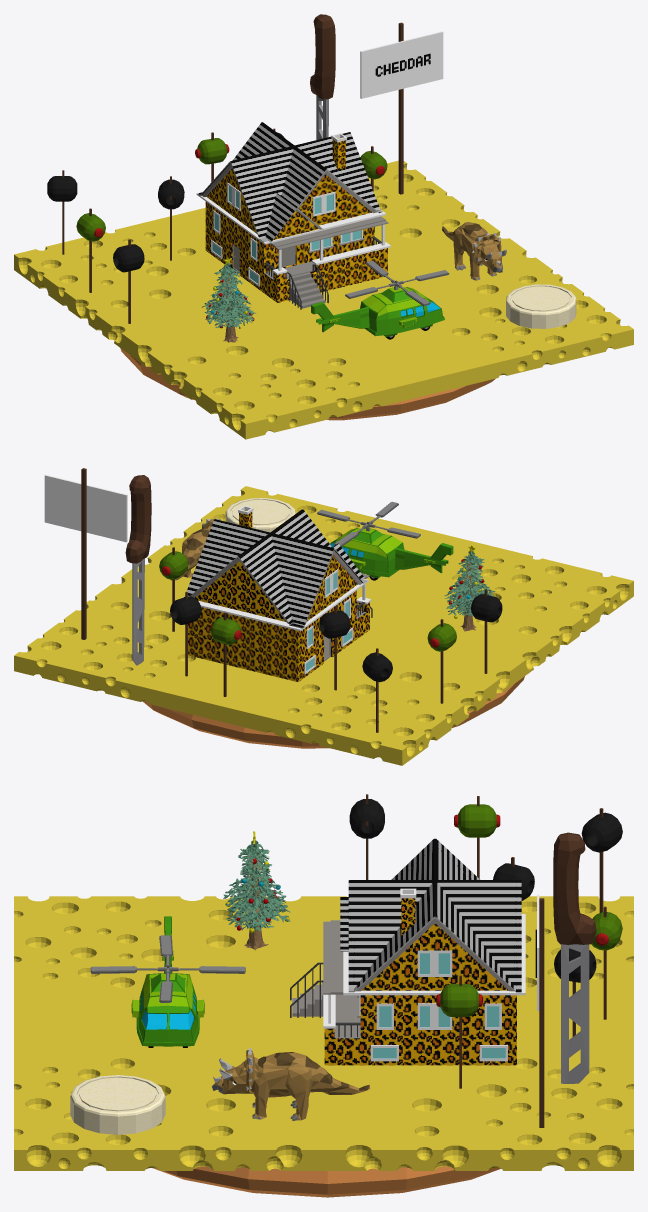
3 renders of one model, top to bottom at view 1: azimuth 30°, elevation 25°; view 2: azimuth 150°, elevation 25°; view 3: azimuth 270°, elevation 25°, orthographic. The views are drawn at different scales.
Visible parts, largest first — view 1: Cube.022, Cube.637, Cube.023, VEHICLES_HELICOPTER, Cylinder.016, Cube.024, ANIMAL_Triceratops, OBJRANDOM_CHRISTMAS_TREE, UNDERGROUND_PIZZA, Sphere.017, Sphere.016, Sphere.018 (+3 smaller); view 2: Cube.022, Cube.637, Cube.023, VEHICLES_HELICOPTER, Cube.024, UNDERGROUND_PIZZA, OBJRANDOM_CHRISTMAS_TREE, Cylinder.016, Sphere.017, Sphere.022, Sphere.020, Sphere.021 (+4 smaller); view 3: Cube.022, Cube.637, Cube.024, UNDERGROUND_PIZZA, VEHICLES_HELICOPTER, ANIMAL_Triceratops, Cylinder.016, OBJRANDOM_CHRISTMAS_TREE, Cube.023, Sphere.016, Sphere.019, Sphere.018 (+4 smaller).
Boxes of the visible parts, x1=… form: Cube.022: x1=14, y1=160, x2=633, y2=439; Cube.637: x1=196, y1=122, x2=390, y2=309; Cube.023: x1=360, y1=22, x2=443, y2=194; VEHICLES_HELICOPTER: x1=311, y1=260, x2=449, y2=339; Cylinder.016: x1=506, y1=284, x2=576, y2=328; Cube.024: x1=310, y1=14, x2=335, y2=139; ANIMAL_Triceratops: x1=442, y1=222, x2=506, y2=280; OBJRANDOM_CHRISTMAS_TREE: x1=202, y1=257, x2=256, y2=342; UNDERGROUND_PIZZA: x1=120, y1=348, x2=495, y2=420; Sphere.017: x1=113, y1=239, x2=144, y2=323; Sphere.016: x1=47, y1=170, x2=77, y2=254; Sphere.018: x1=76, y1=208, x2=105, y2=292; Cube.022: x1=14, y1=486, x2=633, y2=765; Cube.637: x1=183, y1=505, x2=372, y2=681; Cube.023: x1=44, y1=468, x2=127, y2=639; VEHICLES_HELICOPTER: x1=317, y1=501, x2=453, y2=580; Cube.024: x1=125, y1=475, x2=151, y2=665; UNDERGROUND_PIZZA: x1=143, y1=676, x2=524, y2=748; OBJRANDOM_CHRISTMAS_TREE: x1=444, y1=545, x2=495, y2=631; Cylinder.016: x1=225, y1=498, x2=295, y2=532; Sphere.017: x1=471, y1=589, x2=502, y2=673; Sphere.022: x1=210, y1=612, x2=241, y2=696; Sphere.020: x1=319, y1=606, x2=350, y2=690; Sphere.021: x1=170, y1=592, x2=201, y2=676; Cube.022: x1=14, y1=896, x2=633, y2=1170; Cube.637: x1=290, y1=838, x2=525, y2=1065; Cube.024: x1=553, y1=832, x2=596, y2=1083; UNDERGROUND_PIZZA: x1=152, y1=1166, x2=500, y2=1197; VEHICLES_HELICOPTER: x1=90, y1=916, x2=245, y2=1047; ANIMAL_Triceratops: x1=212, y1=1047, x2=369, y2=1120; Cylinder.016: x1=70, y1=1075, x2=165, y2=1134; OBJRANDOM_CHRISTMAS_TREE: x1=223, y1=831, x2=290, y2=950; Cube.023: x1=535, y1=894, x2=544, y2=1127; Sphere.016: x1=581, y1=808, x2=622, y2=912; Sphere.019: x1=436, y1=975, x2=482, y2=1088; Sphere.018: x1=454, y1=796, x2=500, y2=878.
Bounding box in the file's own units: 3917 × 2219 × 4000.
Materials: 43 (4 with a texture image).
